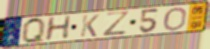5: (138, 7, 161, 35)
H: (44, 14, 74, 42)
K: (79, 13, 101, 38)
O: (162, 6, 188, 32)
Q: (21, 16, 46, 44)
Z: (102, 10, 132, 38)
